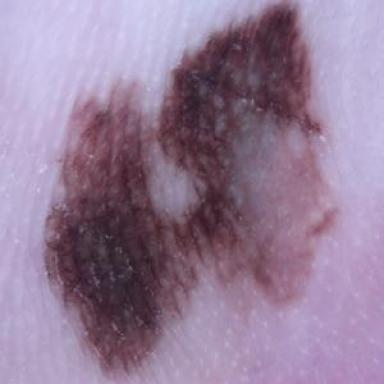Melanoma: (47, 4, 335, 372)
